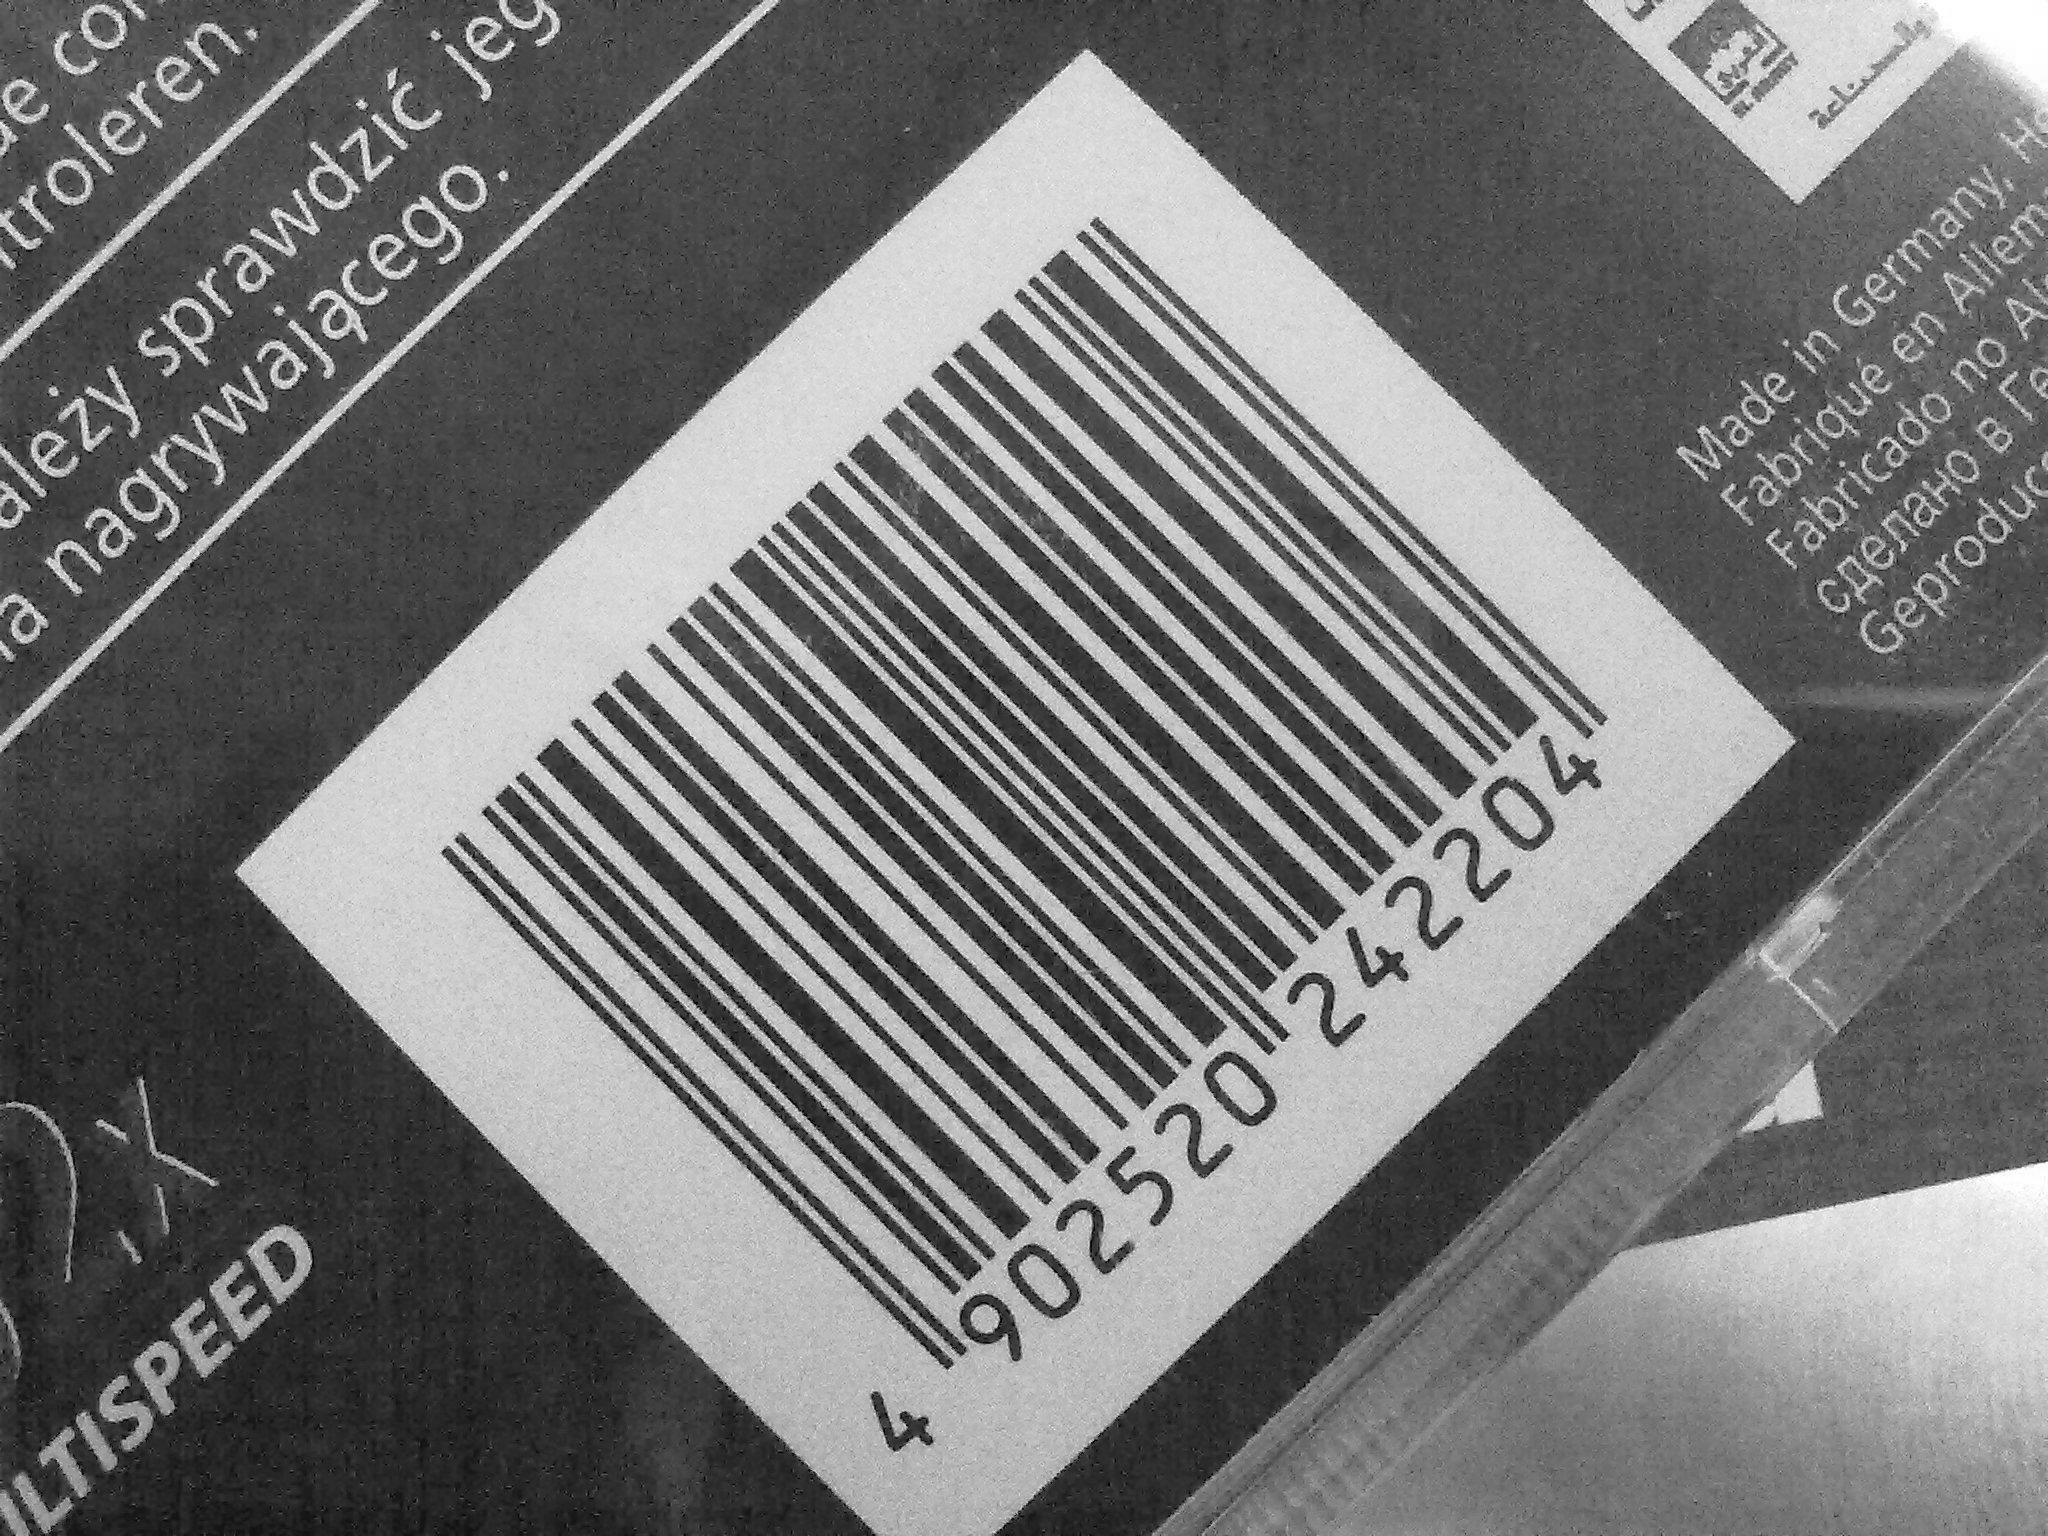Barcode: (331, 134, 1676, 1410)
